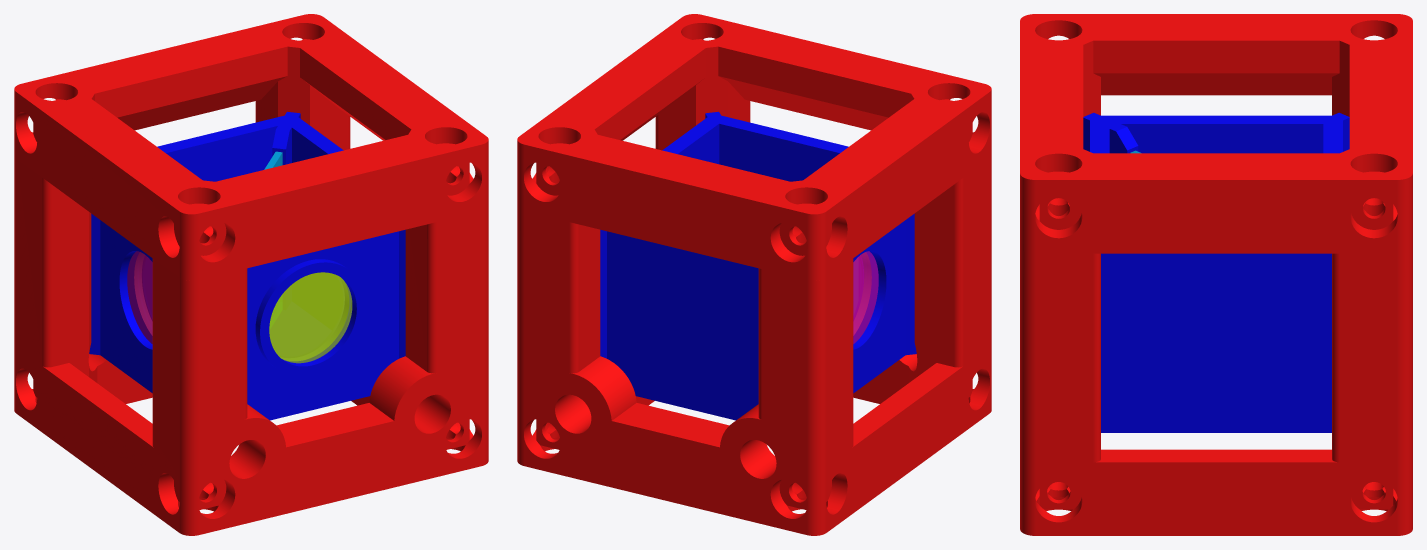
The model's file is Base Cube 1x1 (Filter).fbx.
The picture shows the model from 3 angles, left to right: view 1: azimuth 30°, elevation 25°; view 2: azimuth 150°, elevation 25°; view 3: azimuth 270°, elevation 25°; orthographic projection. The views are drawn at different scales.
Visible parts, largest first — view 1: Base Cube 1x1 (Filter); view 2: Base Cube 1x1 (Filter); view 3: Base Cube 1x1 (Filter).
Boxes of the visible parts, <box> form: Base Cube 1x1 (Filter): <box>14,14,488,535</box>; Base Cube 1x1 (Filter): <box>517,14,991,535</box>; Base Cube 1x1 (Filter): <box>1020,14,1412,535</box>.
Size of the model in its own units: 4.98 by 4.98 by 4.98.
